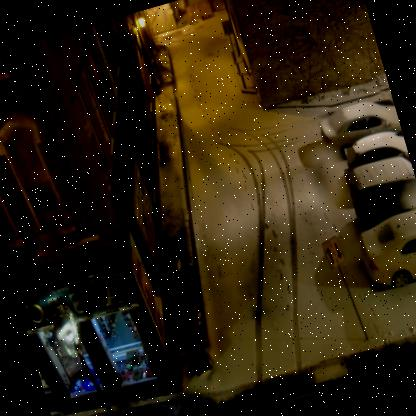Car: (351, 204, 415, 297), (342, 151, 415, 228), (316, 93, 402, 156), (342, 126, 410, 176)
